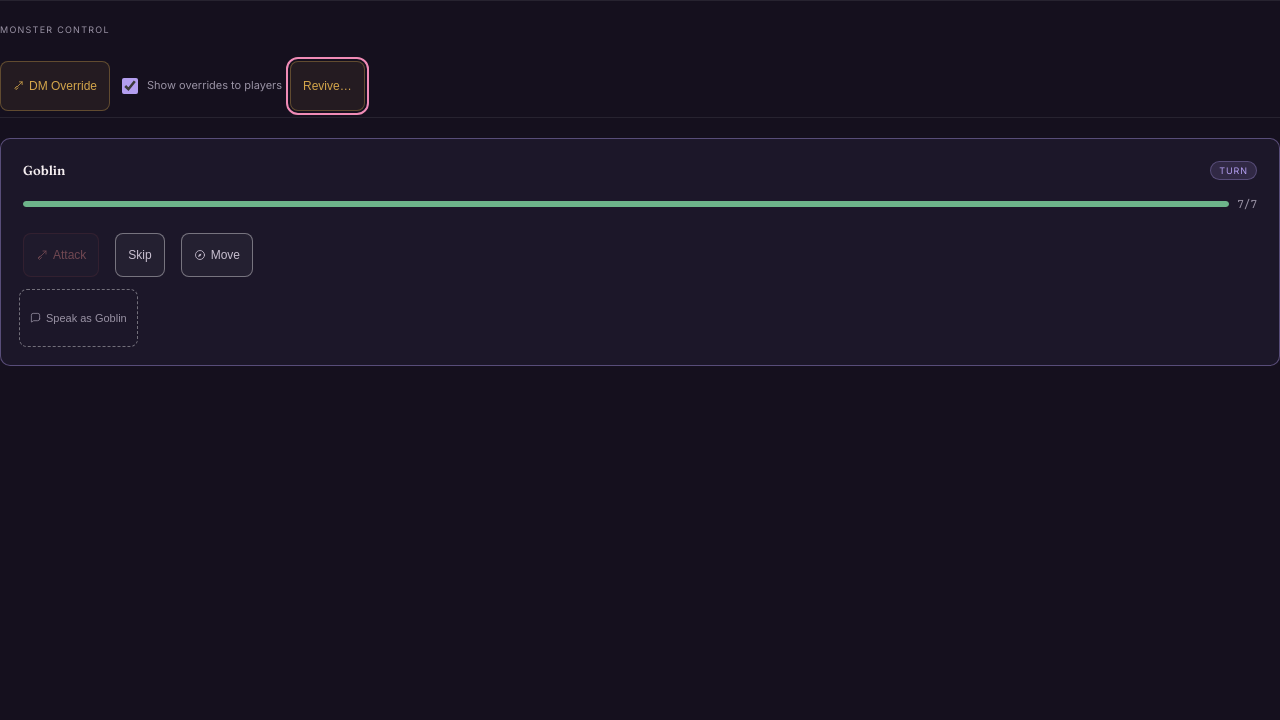
PIN-M6: Chromium shape — the opener HELD focus, then unmounts with the revive: focus goes to DM Override, not <body>
Step 1. Click the button "Revive…" → coordinates (327, 86), box [290, 60, 365, 110]
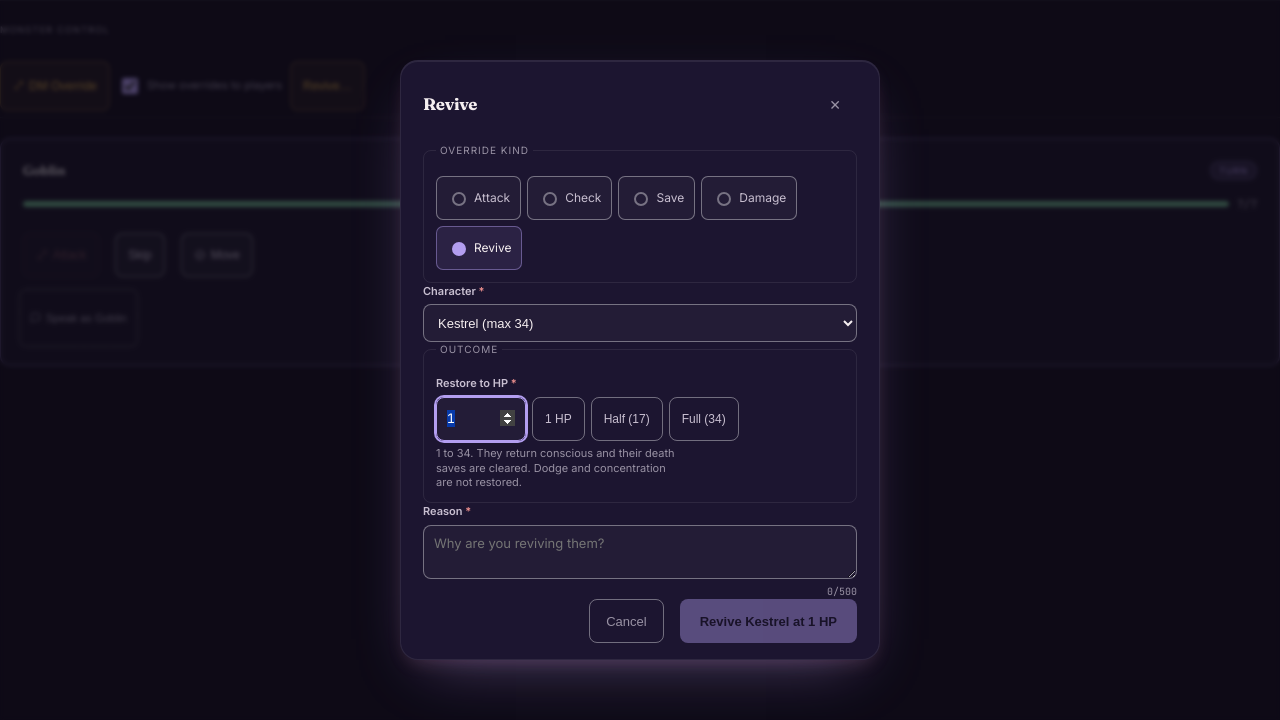
Step 2. Type "up" into the text box labelled "Reason *" → coordinates (640, 552), box [423, 525, 857, 579]
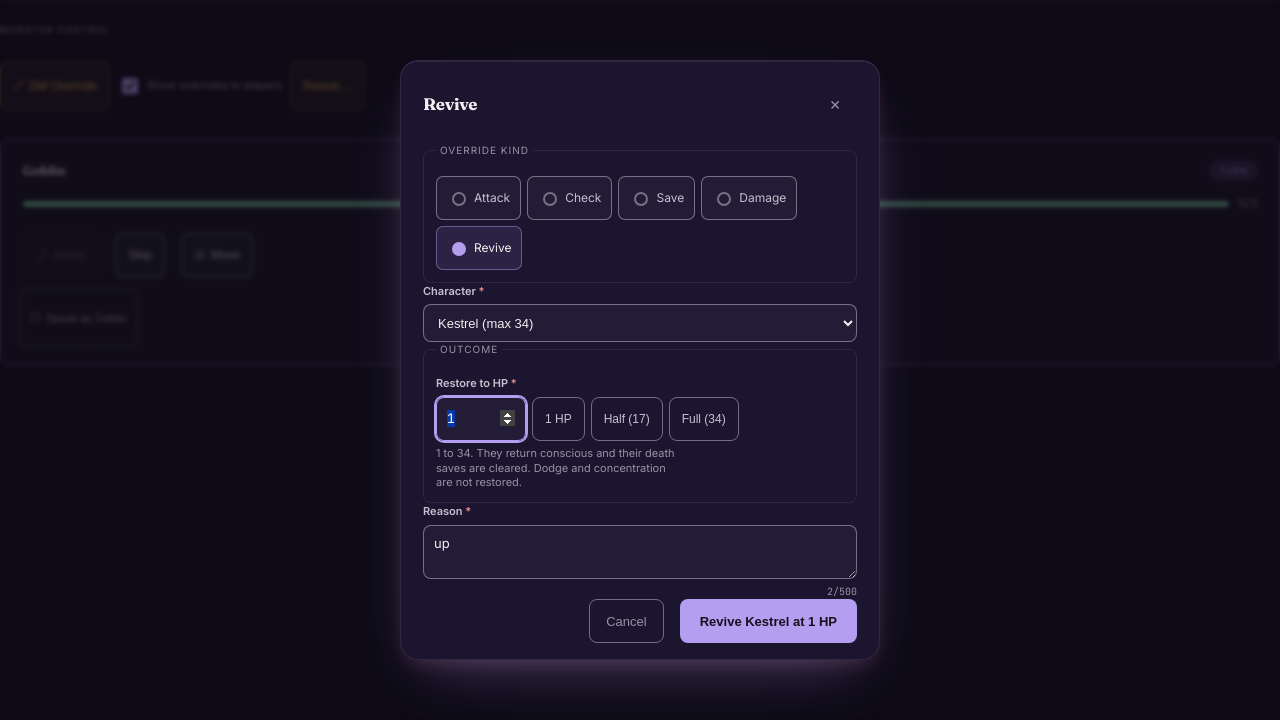
Step 3. Click the button "Revive Kestrel at 1 HP" → coordinates (768, 621), box [680, 599, 857, 643]
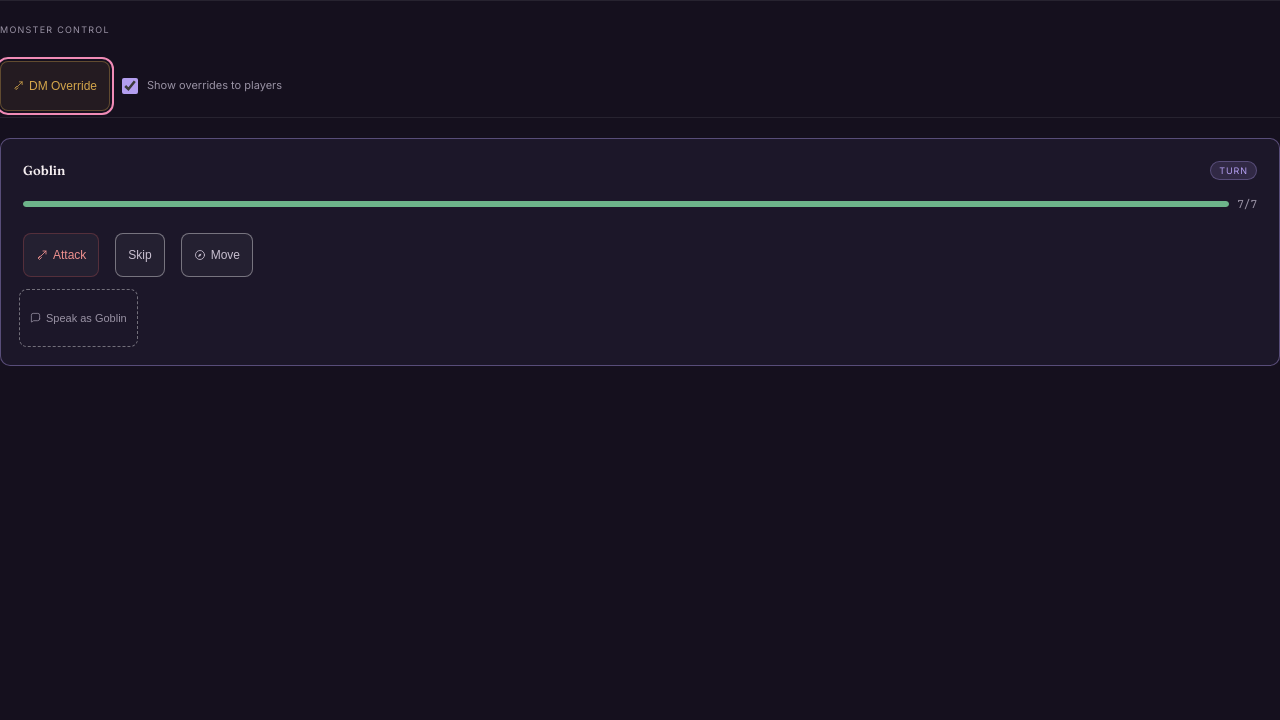
Expected: the dialog is gone
